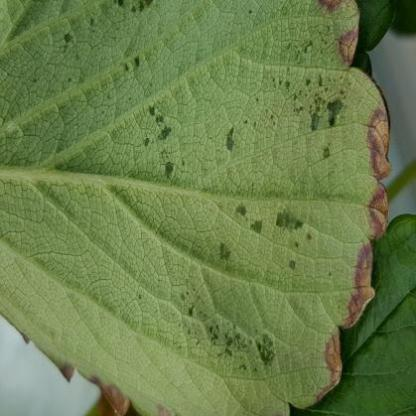Strawberry_Angular_LeafSpot: (25, 0, 367, 383)
